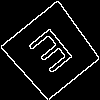E: (26, 26, 82, 83)
